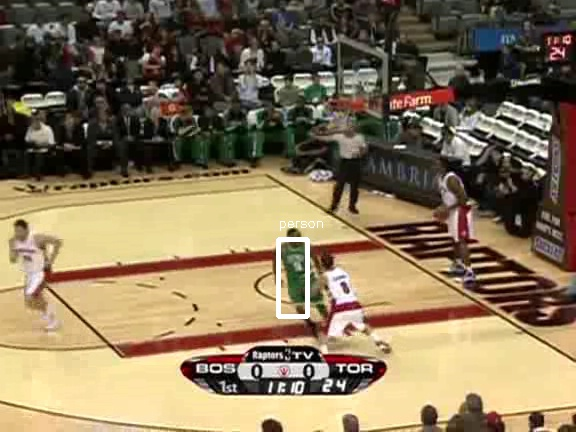person: (283, 234, 317, 315), (282, 234, 316, 315), (284, 234, 318, 315), (283, 233, 317, 314), (283, 235, 317, 316)
target_negative: (243, 126, 461, 300), (387, 24, 464, 261), (397, 274, 433, 409), (459, 307, 513, 344), (541, 134, 569, 155), (519, 262, 521, 326)
